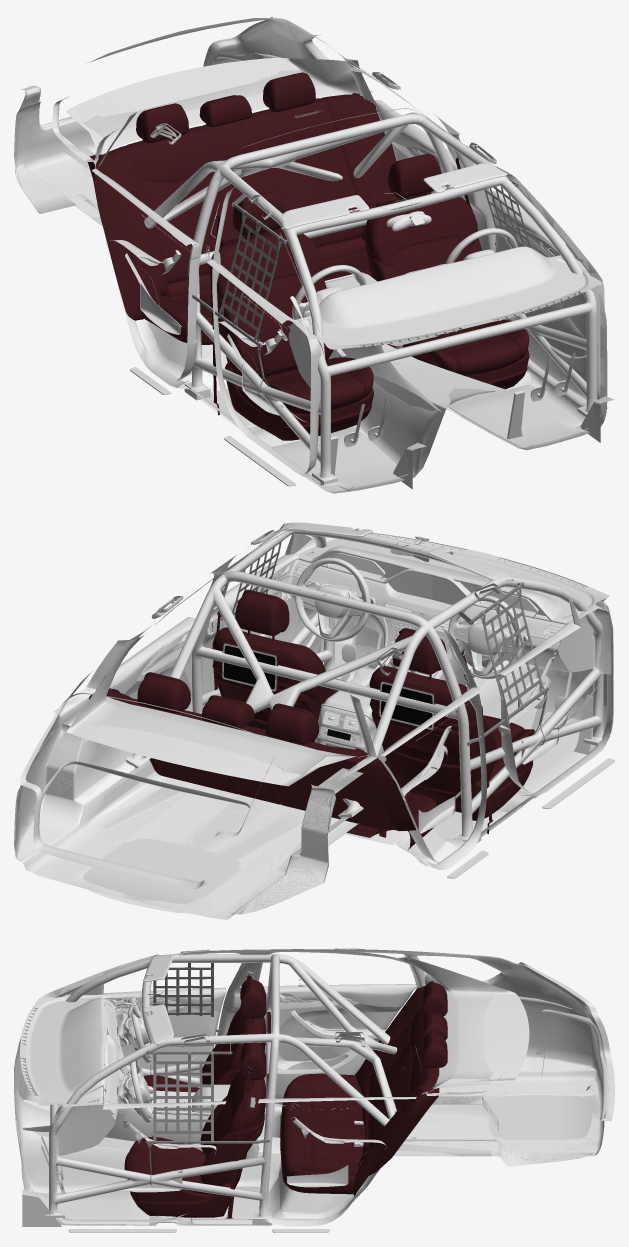
The model's file is etk900_interior-compressed.glb.
3 renders of one model, top to bottom at view 1: azimuth 30°, elevation 25°; view 2: azimuth 150°, elevation 25°; view 3: azimuth 270°, elevation 25°, orthographic. The views are drawn at different scales.
Visible parts, largest first — view 1: etkluxe_seats_R, etkluxe_rollcage, etkluxe_intcarpet_sedan_race, etkluxe_intcarpet_main, etkluxe_seats_FR, etkluxe_intcarpet_sedan, etkluxe_seats_FL, etkluxe_dashboard_RHD, etkluxe_floormats_F, etkluxe_dashboard, etkluxe_dashboard_race, etkluxe_dashboard_race_RHD (+15 smaller); view 2: etkluxe_intcarpet_sedan_race, etkluxe_intcarpet_sedan, etkluxe_rollcage, etkluxe_intcarpet_main, etkluxe_seats_R, etkluxe_seats_FR, etkluxe_dashboard_race, etkluxe_dashboard_race_RHD, etkluxe_dashboard, etkluxe_seats_FL, etkluxe_dashboard_RHD, etkluxe_grp_windownet_R (+17 smaller); view 3: etkluxe_intcarpet_sedan, etkluxe_rollcage, etkluxe_seats_R, etkluxe_intcarpet_sedan_race, etkluxe_intcarpet_main, etkluxe_seats_FL, etkluxe_dashboard, etkluxe_doorpanel_RR, etkluxe_dashboard_RHD, etkluxe_dashboard_race_RHD, etkluxe_grp_windownet_L, etkluxe_doorpanel_FR_race (+15 smaller).
Part boxes in pixels (bbox=[...]): etkluxe_seats_R: bbox=[88, 72, 396, 344]; etkluxe_rollcage: bbox=[144, 112, 600, 484]; etkluxe_intcarpet_sedan_race: bbox=[14, 53, 607, 493]; etkluxe_intcarpet_main: bbox=[15, 17, 607, 493]; etkluxe_seats_FR: bbox=[210, 191, 373, 440]; etkluxe_intcarpet_sedan: bbox=[15, 50, 605, 477]; etkluxe_seats_FL: bbox=[365, 153, 529, 389]; etkluxe_dashboard_RHD: bbox=[288, 255, 600, 489]; etkluxe_floormats_F: bbox=[272, 385, 588, 491]; etkluxe_dashboard: bbox=[300, 246, 614, 426]; etkluxe_dashboard_race: bbox=[289, 247, 601, 442]; etkluxe_dashboard_race_RHD: bbox=[290, 255, 601, 488]; etkluxe_intcarpet_sedan_race: bbox=[14, 522, 613, 919]; etkluxe_intcarpet_sedan: bbox=[14, 524, 611, 918]; etkluxe_rollcage: bbox=[125, 525, 610, 843]; etkluxe_intcarpet_main: bbox=[15, 528, 613, 918]; etkluxe_seats_R: bbox=[89, 672, 437, 849]; etkluxe_seats_FR: bbox=[369, 628, 534, 820]; etkluxe_dashboard_race: bbox=[291, 534, 611, 686]; etkluxe_dashboard_race_RHD: bbox=[292, 534, 611, 729]; etkluxe_dashboard: bbox=[292, 532, 610, 710]; etkluxe_seats_FL: bbox=[212, 589, 347, 742]; etkluxe_dashboard_RHD: bbox=[293, 533, 611, 761]; etkluxe_grp_windownet_R: bbox=[458, 582, 548, 745]; etkluxe_intcarpet_sedan: bbox=[14, 949, 614, 1226]; etkluxe_rollcage: bbox=[45, 954, 416, 1225]; etkluxe_seats_R: bbox=[280, 981, 447, 1196]; etkluxe_intcarpet_sedan_race: bbox=[14, 952, 610, 1225]; etkluxe_intcarpet_main: bbox=[14, 948, 610, 1225]; etkluxe_seats_FL: bbox=[124, 1042, 266, 1217]; etkluxe_dashboard: bbox=[20, 997, 230, 1226]; etkluxe_doorpanel_RR: bbox=[263, 984, 416, 1105]; etkluxe_dashboard_RHD: bbox=[20, 997, 230, 1128]; etkluxe_dashboard_race_RHD: bbox=[17, 997, 205, 1165]; etkluxe_grp_windownet_L: bbox=[146, 1042, 269, 1185]; etkluxe_doorpanel_FR_race: bbox=[62, 984, 226, 1078].
Size of what is drawn, in the model's own units: 1.69 by 1.2 by 3.37.
